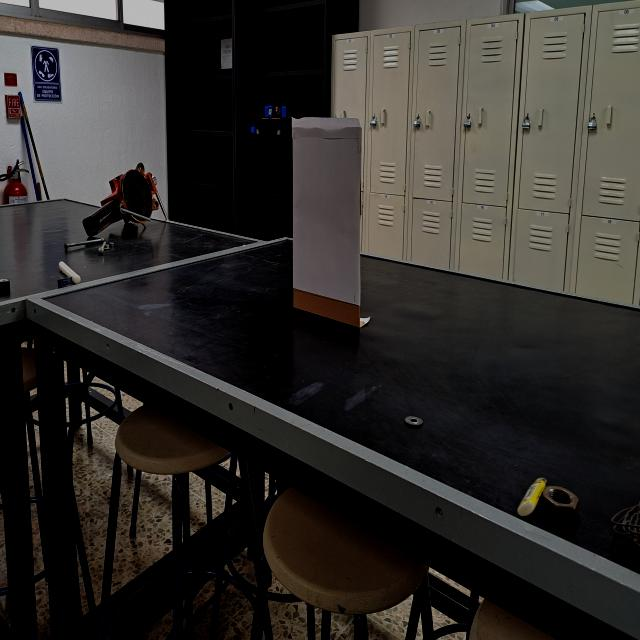wall: (286, 107, 369, 330)
